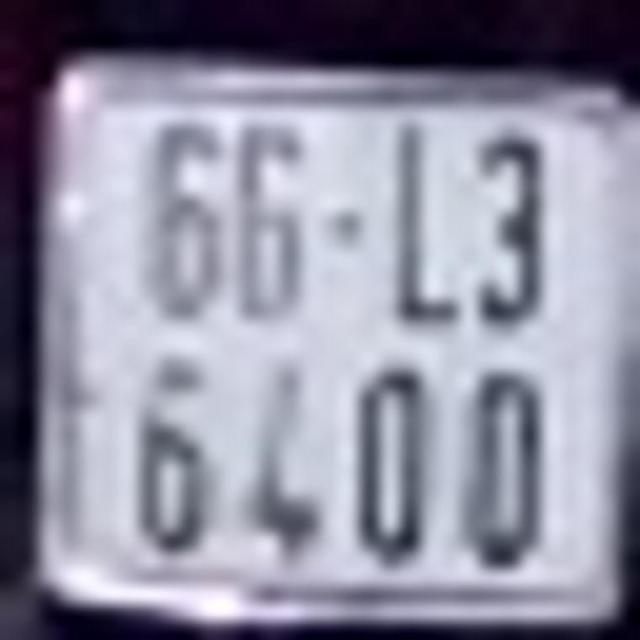0: (352, 348, 435, 567), (464, 366, 542, 566)
3: (468, 120, 548, 329)
4: (248, 344, 326, 566)
6: (232, 114, 308, 330), (150, 111, 222, 322), (139, 344, 207, 556)
L: (386, 120, 460, 320)
